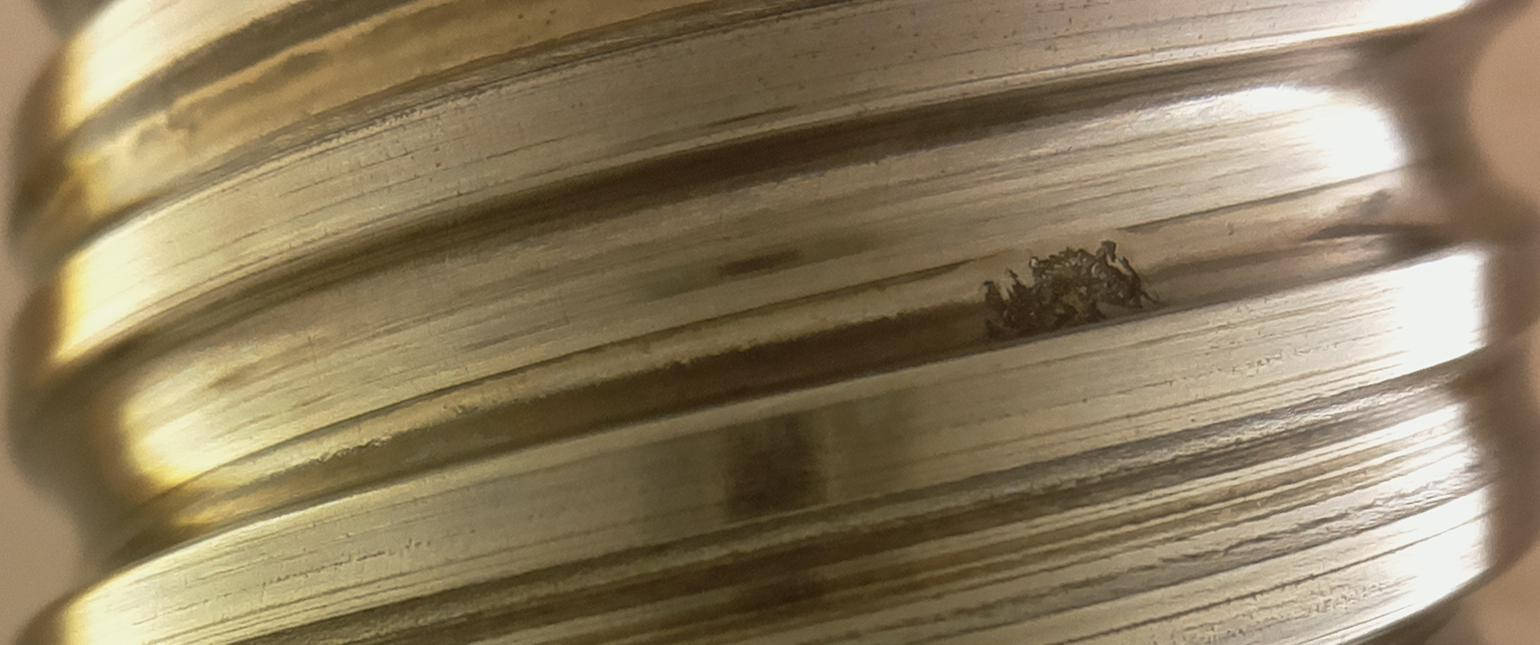pitting: (983, 240, 1159, 340)
